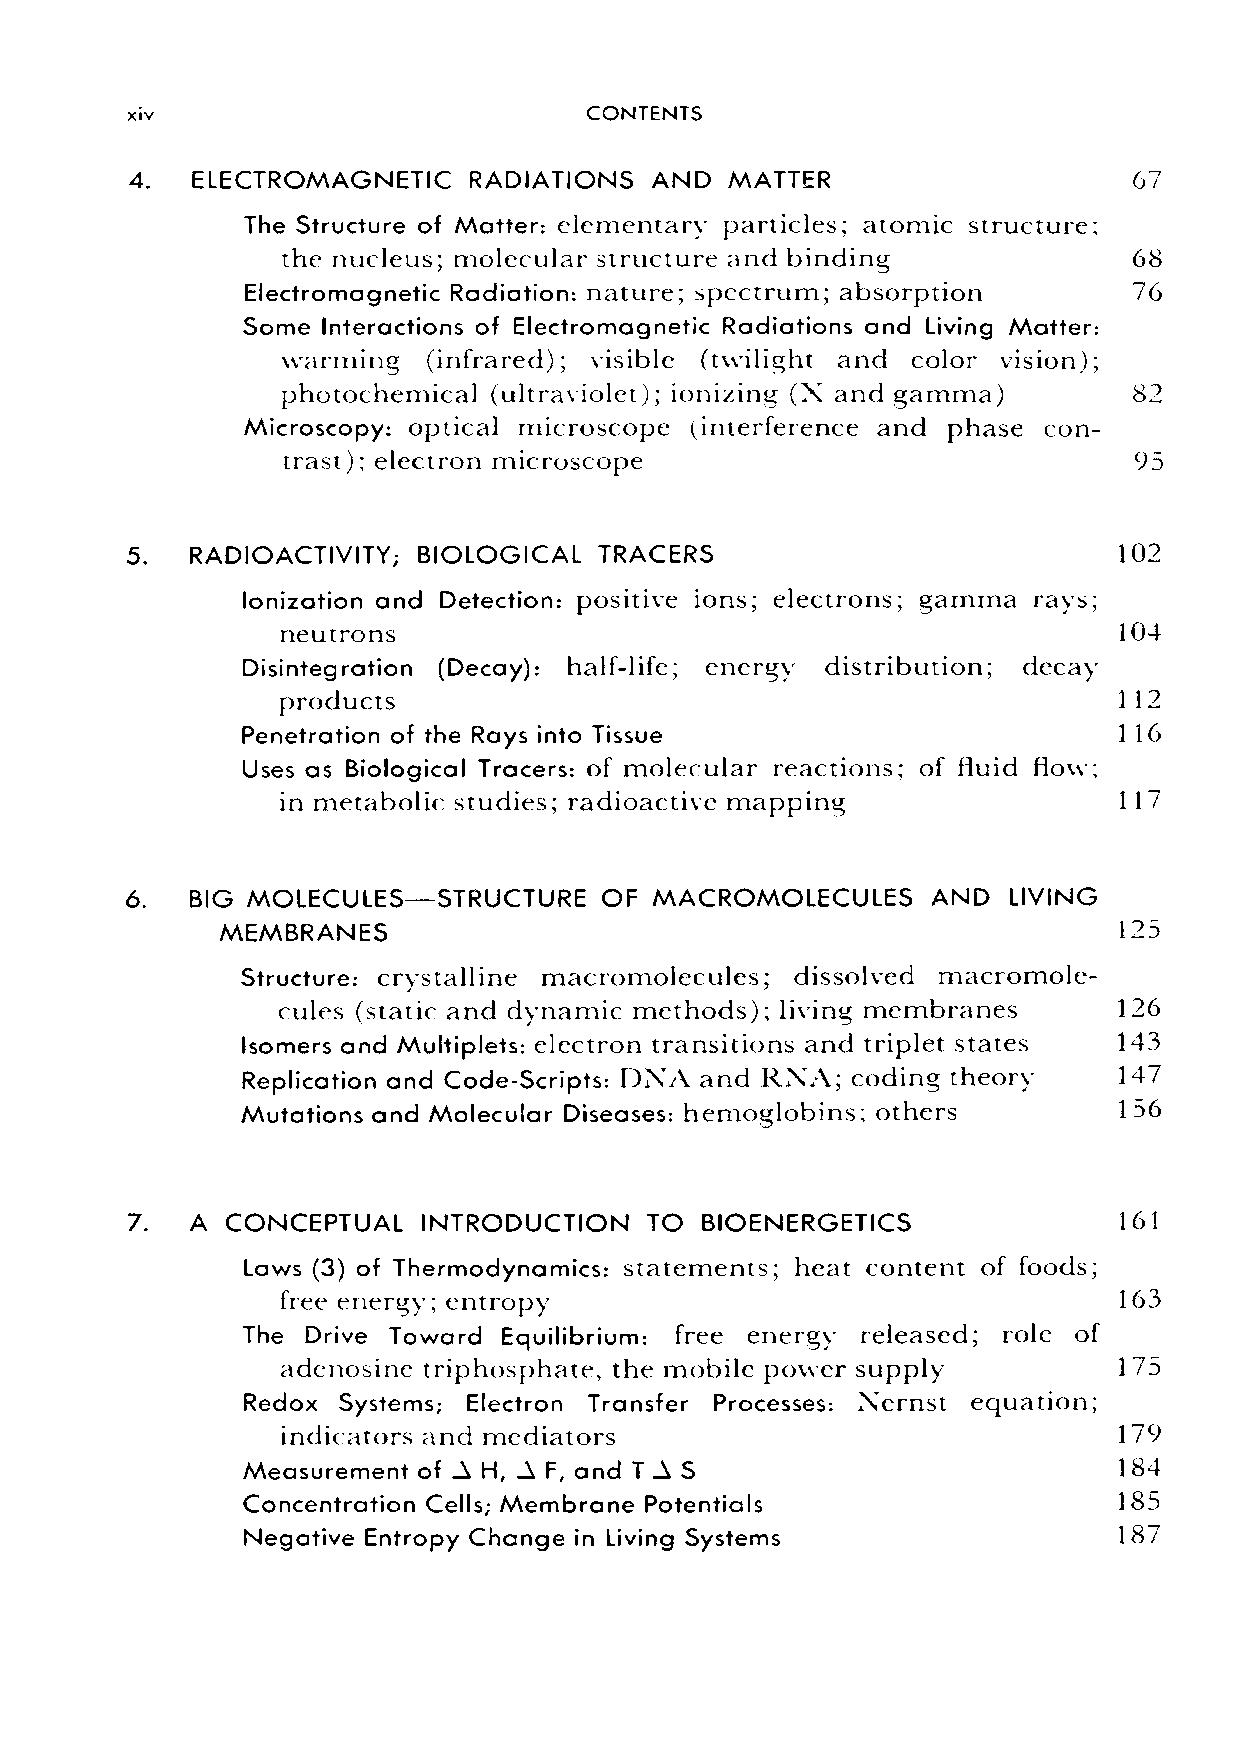TOC_chapter: (240, 311, 1102, 411), (238, 207, 1100, 276), (119, 884, 1104, 945), (240, 413, 1106, 478), (242, 1322, 1098, 1386), (234, 651, 1100, 714), (238, 756, 1103, 819), (240, 1253, 1103, 1317), (235, 582, 1104, 644), (238, 1388, 1096, 1448), (232, 962, 1098, 1021), (123, 1206, 913, 1236), (114, 535, 721, 572), (235, 1031, 1033, 1057), (238, 1063, 1033, 1090), (119, 161, 833, 191), (242, 278, 989, 306), (236, 1100, 961, 1127), (240, 1522, 782, 1551), (236, 1488, 772, 1516), (242, 1453, 699, 1486), (234, 719, 664, 747)
TOC_pagenumber: (1115, 905, 1165, 945), (1114, 782, 1166, 817), (1113, 986, 1162, 1020), (1114, 1282, 1165, 1314), (1117, 1347, 1164, 1382), (1115, 535, 1168, 565), (1117, 680, 1164, 713), (1113, 1205, 1164, 1235), (1110, 1091, 1162, 1119), (1114, 1488, 1165, 1516), (1117, 1023, 1162, 1053), (1114, 719, 1172, 743), (1115, 615, 1162, 644), (1113, 1417, 1164, 1444), (1126, 158, 1164, 195), (1115, 1057, 1159, 1087), (1131, 374, 1168, 409), (1129, 442, 1165, 476), (1117, 1453, 1164, 1480), (1113, 1525, 1169, 1545), (1126, 240, 1164, 268), (1131, 274, 1165, 303)
chapter: (578, 99, 701, 127)
